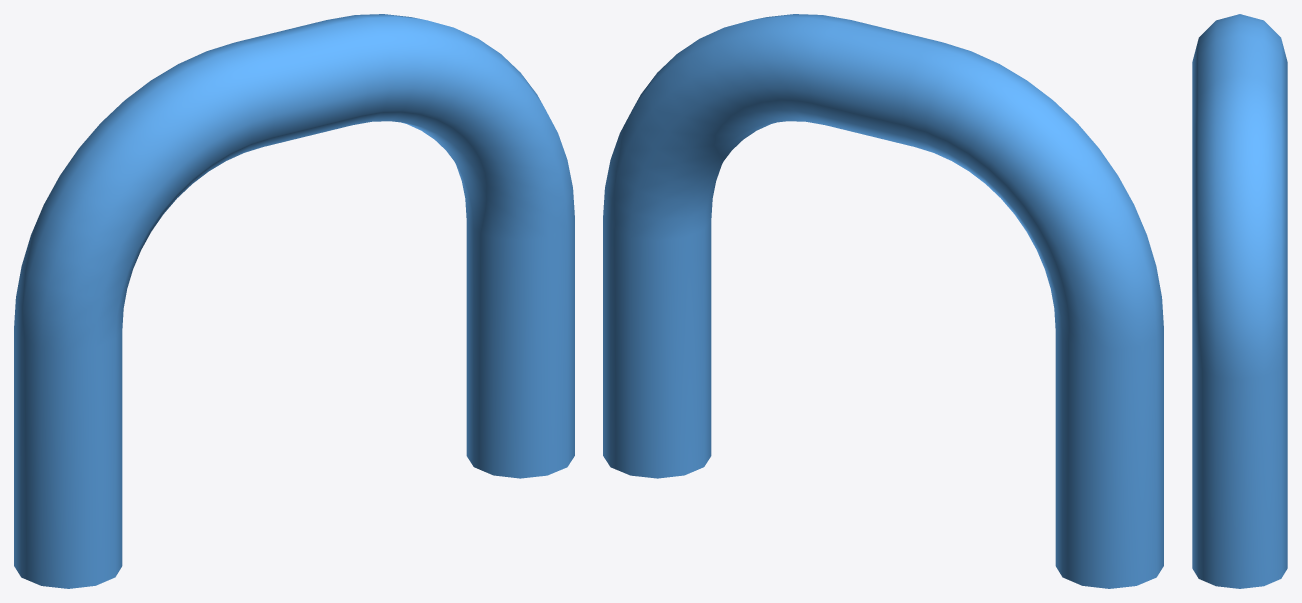
The model's file is gateSmall_teamBlue-col.glb.
The picture shows the model from 3 angles, left to right: view 1: azimuth 30°, elevation 25°; view 2: azimuth 150°, elevation 25°; view 3: azimuth 270°, elevation 25°; orthographic projection. The views are drawn at different scales.
Visible parts, largest first — view 1: gateSmall_teamBlue-col; view 2: gateSmall_teamBlue-col; view 3: gateSmall_teamBlue-col.
Part boxes in pixels (<box>): gateSmall_teamBlue-col: <box>14,14,574,588</box>; gateSmall_teamBlue-col: <box>603,14,1163,588</box>; gateSmall_teamBlue-col: <box>1192,14,1287,588</box>.
Bounding box in the file's own units: 2.4 × 2 × 0.4126.
